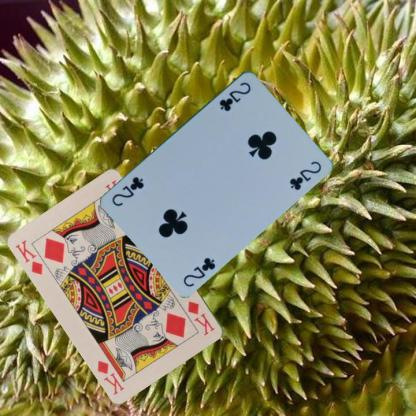2c: (180, 254, 218, 288), (217, 79, 252, 112)
Kd: (185, 297, 216, 337), (13, 237, 44, 276)
